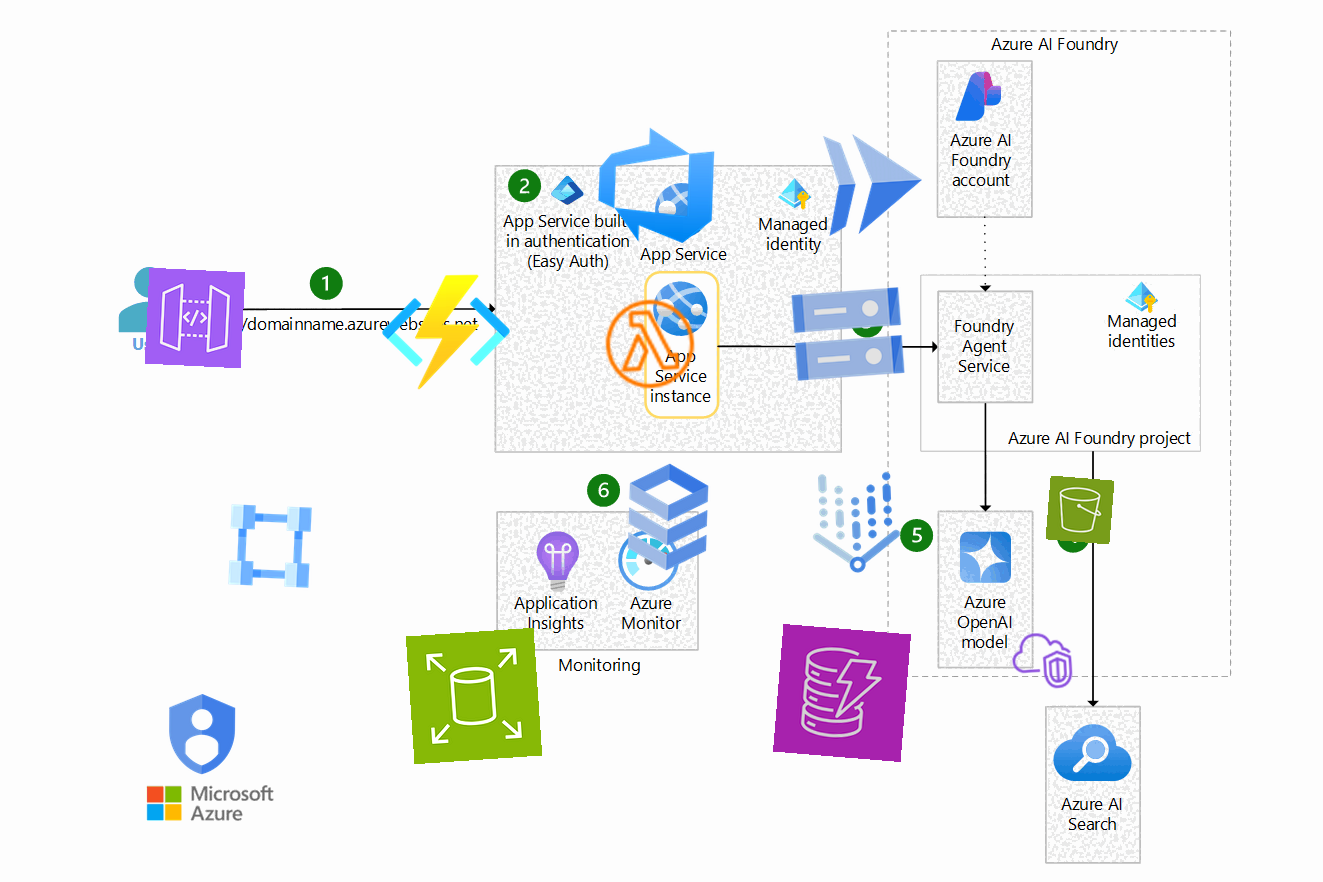aws_amazon_api_gateway: (144, 267, 246, 369)
aws_amazon_dynamodb: (772, 623, 912, 763)
aws_amazon_elastic_block_store: (405, 627, 543, 765)
aws_amazon_simple_storage_service: (1045, 475, 1115, 545)
aws_lambda_lambda_function: (599, 293, 701, 395)
aws_vpc_virtual_private_cloud_vpc: (1007, 626, 1077, 696)
azure_devops: (589, 118, 723, 252)
azure_function_apps: (381, 267, 511, 397)
gcp_cloud_run: (804, 115, 940, 251)
gcp_cloud_sql: (601, 450, 735, 584)
gcp_cloud_storage: (779, 265, 917, 403)
gcp_identity_and_access_management: (153, 685, 251, 783)
gcp_vertex_ai: (789, 456, 923, 590)
gcp_virtual_private_cloud: (220, 496, 320, 596)
